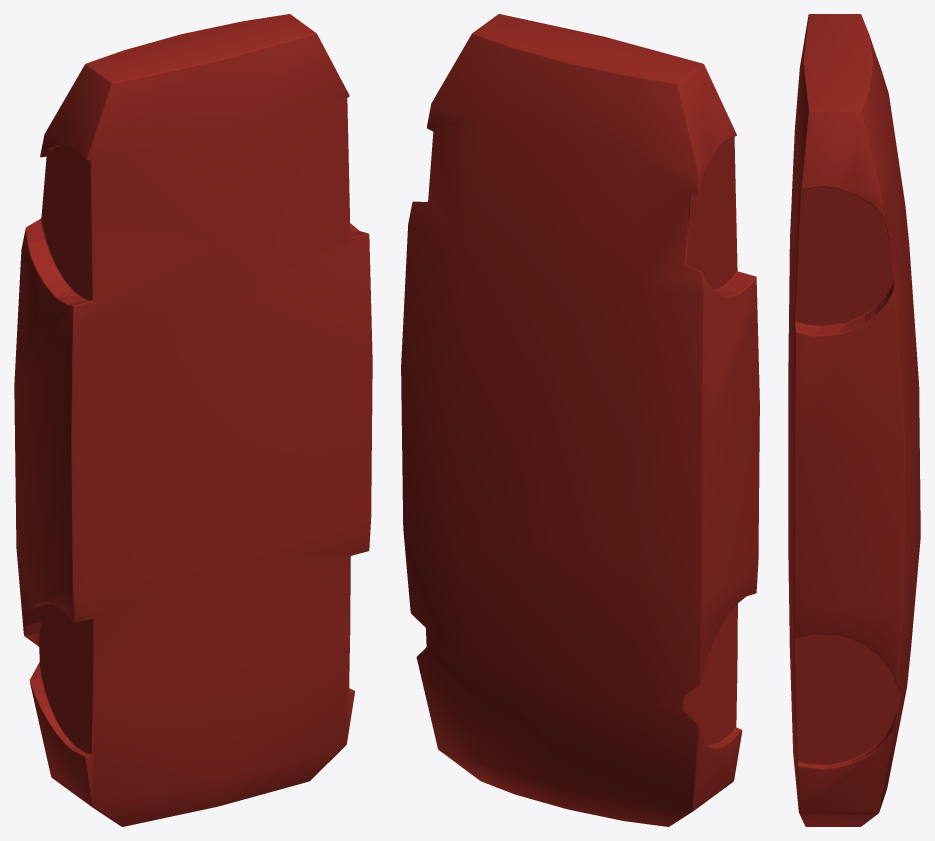
Rendered from HeroCrownfire_LOD1.fbx.
The picture shows the model from 3 angles, left to right: view 1: azimuth 30°, elevation 25°; view 2: azimuth 150°, elevation 25°; view 3: azimuth 270°, elevation 25°; orthographic projection. The views are drawn at different scales.
Visible parts, largest first — view 1: Crownfire_BODY_SHELL_LOD1; view 2: Crownfire_BODY_SHELL_LOD1; view 3: Crownfire_BODY_SHELL_LOD1.
Boxes of the visible parts, left/top/right/bottom form: Crownfire_BODY_SHELL_LOD1: left=14, top=14, right=372, bottom=826; Crownfire_BODY_SHELL_LOD1: left=401, top=14, right=759, bottom=826; Crownfire_BODY_SHELL_LOD1: left=788, top=14, right=920, bottom=826.
Size of the model in its own units: 206 by 486 by 81.01.
